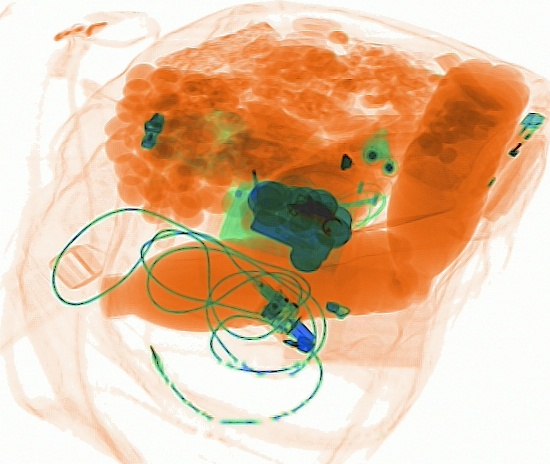lighter: (475, 110, 546, 191)
